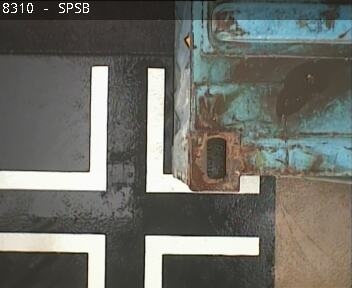groundmarker_1: (1, 66, 260, 193), (1, 231, 259, 288)
